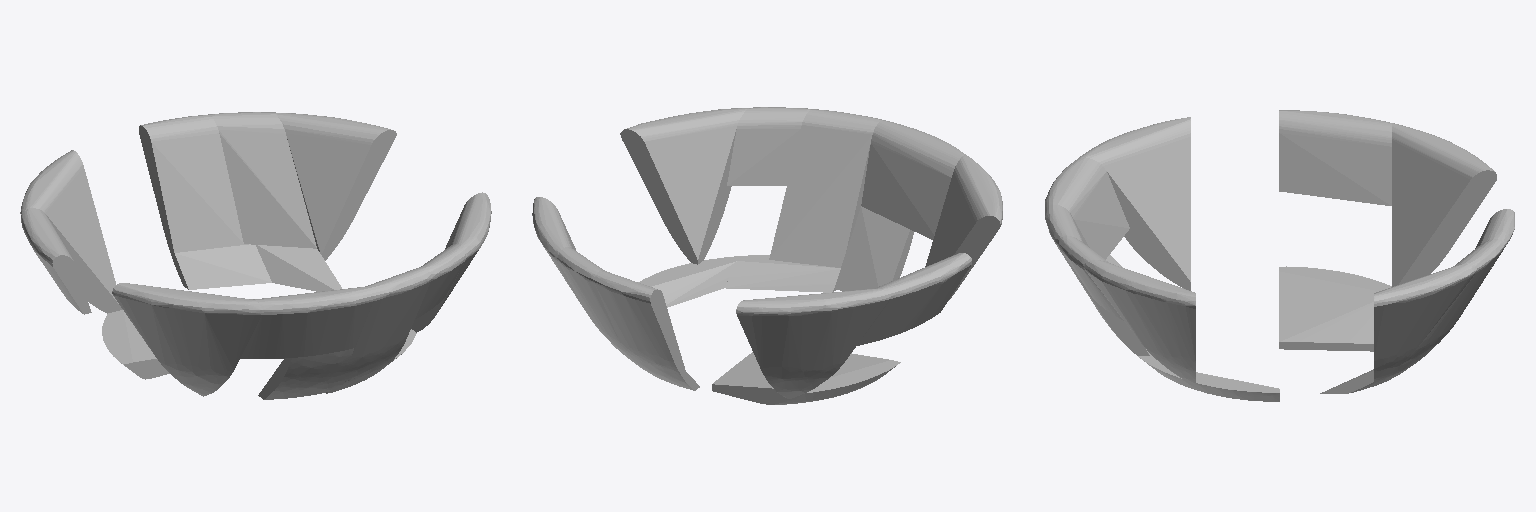
--- What the picture shows (computed from the rendered views, not written in the file) ---
The picture shows the robot from 3 angles, left to right: view 1: azimuth 30°, elevation 25°; view 2: azimuth 150°, elevation 25°; view 3: azimuth 270°, elevation 25°; orthographic projection.
Robot: root — 28 links, 27 joints (27 fixed); root link link_coacd_convex_piece_0; default pose: every joint at zero.
Links seen in each view (by area): view 1: link_coacd_convex_piece_18, link_coacd_convex_piece_5, link_coacd_convex_piece_0, link_coacd_convex_piece_13, link_coacd_convex_piece_9, link_coacd_convex_piece_4, link_coacd_convex_piece_20, link_coacd_convex_piece_3, link_coacd_convex_piece_26, link_coacd_convex_piece_7, link_coacd_convex_piece_24, link_coacd_convex_piece_2 (+2 smaller); view 2: link_coacd_convex_piece_20, link_coacd_convex_piece_21, link_coacd_convex_piece_4, link_coacd_convex_piece_9, link_coacd_convex_piece_18, link_coacd_convex_piece_5, link_coacd_convex_piece_23, link_coacd_convex_piece_7, link_coacd_convex_piece_26, link_coacd_convex_piece_2, link_coacd_convex_piece_19, link_coacd_convex_piece_8 (+3 smaller); view 3: link_coacd_convex_piece_4, link_coacd_convex_piece_5, link_coacd_convex_piece_7, link_coacd_convex_piece_2, link_coacd_convex_piece_21, link_coacd_convex_piece_0, link_coacd_convex_piece_9, link_coacd_convex_piece_13, link_coacd_convex_piece_20, link_coacd_convex_piece_8, link_coacd_convex_piece_23, link_coacd_convex_piece_18 (+1 smaller).
Link boxes in pixels (x1,y1,x2,y2): link_coacd_convex_piece_18: (139,115,243,252); link_coacd_convex_piece_5: (112,283,261,396); link_coacd_convex_piece_0: (272,112,396,260); link_coacd_convex_piece_13: (208,112,316,248); link_coacd_convex_piece_9: (240,286,373,358); link_coacd_convex_piece_4: (20,150,122,313); link_coacd_convex_piece_20: (338,266,431,382); link_coacd_convex_piece_3: (169,244,271,289); link_coacd_convex_piece_26: (258,348,353,399); link_coacd_convex_piece_7: (21,208,91,314); link_coacd_convex_piece_24: (256,245,341,291); link_coacd_convex_piece_2: (102,310,169,379); link_coacd_convex_piece_20: (769,109,881,267); link_coacd_convex_piece_21: (620,108,748,264); link_coacd_convex_piece_4: (736,288,890,398); link_coacd_convex_piece_9: (861,120,965,239); link_coacd_convex_piece_18: (594,270,685,374); link_coacd_convex_piece_5: (925,155,1002,300); link_coacd_convex_piece_23: (727,107,810,185); link_coacd_convex_piece_7: (857,253,971,345); link_coacd_convex_piece_26: (835,206,913,291); link_coacd_convex_piece_2: (712,352,900,404); link_coacd_convex_piece_19: (725,255,840,292); link_coacd_convex_piece_8: (638,256,743,307); link_coacd_convex_piece_4: (1392,123,1496,286); link_coacd_convex_piece_5: (1079,117,1190,290); link_coacd_convex_piece_7: (1279,110,1391,205); link_coacd_convex_piece_2: (1279,266,1391,351); link_coacd_convex_piece_21: (1084,260,1195,382); link_coacd_convex_piece_0: (1374,263,1476,381); link_coacd_convex_piece_9: (1045,158,1129,259); link_coacd_convex_piece_13: (1398,239,1505,366); link_coacd_convex_piece_20: (1045,205,1149,355); link_coacd_convex_piece_8: (1154,367,1279,401); link_coacd_convex_piece_23: (1057,236,1123,320); link_coacd_convex_piece_18: (1447,209,1514,333).
Bounding box of the posed robot: 0.1569 × 0.1621 × 0.0563 m (x, y, z).
16 mesh visuals loaded from 28 distinct referenced files (16 OBJ); not drawn: 12 (reference not matched to a file when rendering).

robot.urdf — root:
<robot name="root">
  <link name="link_coacd_convex_piece_0">
    <inertial>
      <origin xyz="0 0 0" rpy="0 0 0"/>
      <inertia ixx="3.15E-09" ixy="-3.30E-09" ixz="-9.87E-10" iyy="4.49E-09" iyz="-8.17E-10" izz="6.94E-09"/>
    </inertial>
    <visual>
      <origin xyz="0 0 0" rpy="0 0 0"/>
      <geometry>
        <mesh filename="coacd_convex_piece_0.obj" scale="1.0000E+00 1.0000E+00 1.0000E+00"/>
      </geometry>
      <material name="">
        <color rgba="7.50E-01 7.50E-01 7.50E-01 1"/>
      </material>
    </visual>
    <collision>
      <origin xyz="0 0 0" rpy="0 0 0"/>
      <geometry>
        <mesh filename="coacd_convex_piece_0.obj" scale="1.0000E+00 1.0000E+00 1.0000E+00"/>
      </geometry>
    </collision>
  </link>
  <link name="link_coacd_convex_piece_1">
    <inertial>
      <origin xyz="0 0 0" rpy="0 0 0"/>
      <inertia ixx="3.44E-09" ixy="-7.98E-12" ixz="9.38E-11" iyy="3.09E-09" iyz="-1.48E-09" izz="2.94E-09"/>
    </inertial>
    <visual>
      <origin xyz="0 0 0" rpy="0 0 0"/>
      <geometry>
        <mesh filename="coacd_convex_piece_1.obj" scale="1.0000E+00 1.0000E+00 1.0000E+00"/>
      </geometry>
      <material name="">
        <color rgba="7.50E-01 7.50E-01 7.50E-01 1"/>
      </material>
    </visual>
    <collision>
      <origin xyz="0 0 0" rpy="0 0 0"/>
      <geometry>
        <mesh filename="coacd_convex_piece_1.obj" scale="1.0000E+00 1.0000E+00 1.0000E+00"/>
      </geometry>
    </collision>
  </link>
  <joint name="link_coacd_convex_piece_1_joint" type="fixed">
    <origin xyz="0 0 0" rpy="0 0 0"/>
    <parent link="link_coacd_convex_piece_0"/>
    <child link="link_coacd_convex_piece_1"/>
  </joint>
  <link name="link_coacd_convex_piece_2">
    <inertial>
      <origin xyz="0 0 0" rpy="0 0 0"/>
      <inertia ixx="1.79E-09" ixy="7.29E-10" ixz="-1.05E-09" iyy="2.41E-09" iyz="7.58E-10" izz="2.12E-09"/>
    </inertial>
    <visual>
      <origin xyz="0 0 0" rpy="0 0 0"/>
      <geometry>
        <mesh filename="coacd_convex_piece_2.obj" scale="1.0000E+00 1.0000E+00 1.0000E+00"/>
      </geometry>
      <material name="">
        <color rgba="7.50E-01 7.50E-01 7.50E-01 1"/>
      </material>
    </visual>
    <collision>
      <origin xyz="0 0 0" rpy="0 0 0"/>
      <geometry>
        <mesh filename="coacd_convex_piece_2.obj" scale="1.0000E+00 1.0000E+00 1.0000E+00"/>
      </geometry>
    </collision>
  </link>
  <joint name="link_coacd_convex_piece_2_joint" type="fixed">
    <origin xyz="0 0 0" rpy="0 0 0"/>
    <parent link="link_coacd_convex_piece_1"/>
    <child link="link_coacd_convex_piece_2"/>
  </joint>
  <link name="link_coacd_convex_piece_3">
    <inertial>
      <origin xyz="0 0 0" rpy="0 0 0"/>
      <inertia ixx="7.98E-10" ixy="-1.95E-10" ixz="7.27E-11" iyy="1.68E-10" iyz="2.52E-10" izz="7.76E-10"/>
    </inertial>
    <visual>
      <origin xyz="0 0 0" rpy="0 0 0"/>
      <geometry>
        <mesh filename="coacd_convex_piece_3.obj" scale="1.0000E+00 1.0000E+00 1.0000E+00"/>
      </geometry>
      <material name="">
        <color rgba="7.50E-01 7.50E-01 7.50E-01 1"/>
      </material>
    </visual>
    <collision>
      <origin xyz="0 0 0" rpy="0 0 0"/>
      <geometry>
        <mesh filename="coacd_convex_piece_3.obj" scale="1.0000E+00 1.0000E+00 1.0000E+00"/>
      </geometry>
    </collision>
  </link>
  <joint name="link_coacd_convex_piece_3_joint" type="fixed">
    <origin xyz="0 0 0" rpy="0 0 0"/>
    <parent link="link_coacd_convex_piece_2"/>
    <child link="link_coacd_convex_piece_3"/>
  </joint>
  <link name="link_coacd_convex_piece_4">
    <inertial>
      <origin xyz="0 0 0" rpy="0 0 0"/>
      <inertia ixx="6.40E-09" ixy="4.96E-09" ixz="1.10E-09" iyy="5.10E-09" iyz="-1.23E-09" izz="1.05E-08"/>
    </inertial>
    <visual>
      <origin xyz="0 0 0" rpy="0 0 0"/>
      <geometry>
        <mesh filename="coacd_convex_piece_4.obj" scale="1.0000E+00 1.0000E+00 1.0000E+00"/>
      </geometry>
      <material name="">
        <color rgba="7.50E-01 7.50E-01 7.50E-01 1"/>
      </material>
    </visual>
    <collision>
      <origin xyz="0 0 0" rpy="0 0 0"/>
      <geometry>
        <mesh filename="coacd_convex_piece_4.obj" scale="1.0000E+00 1.0000E+00 1.0000E+00"/>
      </geometry>
    </collision>
  </link>
  <joint name="link_coacd_convex_piece_4_joint" type="fixed">
    <origin xyz="0 0 0" rpy="0 0 0"/>
    <parent link="link_coacd_convex_piece_3"/>
    <child link="link_coacd_convex_piece_4"/>
  </joint>
  <link name="link_coacd_convex_piece_5">
    <inertial>
      <origin xyz="0 0 0" rpy="0 0 0"/>
      <inertia ixx="5.16E-09" ixy="-5.00E-09" ixz="1.35E-09" iyy="6.50E-09" iyz="1.21E-09" izz="1.06E-08"/>
    </inertial>
    <visual>
      <origin xyz="0 0 0" rpy="0 0 0"/>
      <geometry>
        <mesh filename="coacd_convex_piece_5.obj" scale="1.0000E+00 1.0000E+00 1.0000E+00"/>
      </geometry>
      <material name="">
        <color rgba="7.50E-01 7.50E-01 7.50E-01 1"/>
      </material>
    </visual>
    <collision>
      <origin xyz="0 0 0" rpy="0 0 0"/>
      <geometry>
        <mesh filename="coacd_convex_piece_5.obj" scale="1.0000E+00 1.0000E+00 1.0000E+00"/>
      </geometry>
    </collision>
  </link>
  <joint name="link_coacd_convex_piece_5_joint" type="fixed">
    <origin xyz="0 0 0" rpy="0 0 0"/>
    <parent link="link_coacd_convex_piece_4"/>
    <child link="link_coacd_convex_piece_5"/>
  </joint>
  <link name="link_coacd_convex_piece_6">
    <inertial>
      <origin xyz="0 0 0" rpy="0 0 0"/>
      <inertia ixx="5.58E-09" ixy="1.16E-09" ixz="2.36E-10" iyy="6.19E-10" iyz="-1.09E-09" izz="5.65E-09"/>
    </inertial>
    <visual>
      <origin xyz="0 0 0" rpy="0 0 0"/>
      <geometry>
        <mesh filename="coacd_convex_piece_6.obj" scale="1.0000E+00 1.0000E+00 1.0000E+00"/>
      </geometry>
      <material name="">
        <color rgba="7.50E-01 7.50E-01 7.50E-01 1"/>
      </material>
    </visual>
    <collision>
      <origin xyz="0 0 0" rpy="0 0 0"/>
      <geometry>
        <mesh filename="coacd_convex_piece_6.obj" scale="1.0000E+00 1.0000E+00 1.0000E+00"/>
      </geometry>
    </collision>
  </link>
  <joint name="link_coacd_convex_piece_6_joint" type="fixed">
    <origin xyz="0 0 0" rpy="0 0 0"/>
    <parent link="link_coacd_convex_piece_5"/>
    <child link="link_coacd_convex_piece_6"/>
  </joint>
  <link name="link_coacd_convex_piece_7">
    <inertial>
      <origin xyz="0 0 0" rpy="0 0 0"/>
      <inertia ixx="1.09E-09" ixy="1.81E-09" ixz="1.53E-09" iyy="6.97E-09" iyz="-4.26E-10" izz="7.24E-09"/>
    </inertial>
    <visual>
      <origin xyz="0 0 0" rpy="0 0 0"/>
      <geometry>
        <mesh filename="coacd_convex_piece_7.obj" scale="1.0000E+00 1.0000E+00 1.0000E+00"/>
      </geometry>
      <material name="">
        <color rgba="7.50E-01 7.50E-01 7.50E-01 1"/>
      </material>
    </visual>
    <collision>
      <origin xyz="0 0 0" rpy="0 0 0"/>
      <geometry>
        <mesh filename="coacd_convex_piece_7.obj" scale="1.0000E+00 1.0000E+00 1.0000E+00"/>
      </geometry>
    </collision>
  </link>
  <joint name="link_coacd_convex_piece_7_joint" type="fixed">
    <origin xyz="0 0 0" rpy="0 0 0"/>
    <parent link="link_coacd_convex_piece_6"/>
    <child link="link_coacd_convex_piece_7"/>
  </joint>
  <link name="link_coacd_convex_piece_8">
    <inertial>
      <origin xyz="0 0 0" rpy="0 0 0"/>
      <inertia ixx="2.62E-10" ixy="2.39E-10" ixz="2.68E-10" iyy="7.11E-10" iyz="-1.15E-10" izz="7.22E-10"/>
    </inertial>
    <visual>
      <origin xyz="0 0 0" rpy="0 0 0"/>
      <geometry>
        <mesh filename="coacd_convex_piece_8.obj" scale="1.0000E+00 1.0000E+00 1.0000E+00"/>
      </geometry>
      <material name="">
        <color rgba="7.50E-01 7.50E-01 7.50E-01 1"/>
      </material>
    </visual>
    <collision>
      <origin xyz="0 0 0" rpy="0 0 0"/>
      <geometry>
        <mesh filename="coacd_convex_piece_8.obj" scale="1.0000E+00 1.0000E+00 1.0000E+00"/>
      </geometry>
    </collision>
  </link>
  <joint name="link_coacd_convex_piece_8_joint" type="fixed">
    <origin xyz="0 0 0" rpy="0 0 0"/>
    <parent link="link_coacd_convex_piece_7"/>
    <child link="link_coacd_convex_piece_8"/>
  </joint>
  <link name="link_coacd_convex_piece_9">
    <inertial>
      <origin xyz="0 0 0" rpy="0 0 0"/>
      <inertia ixx="8.01E-09" ixy="-2.14E-09" ixz="5.04E-10" iyy="1.31E-09" iyz="1.77E-09" izz="8.35E-09"/>
    </inertial>
    <visual>
      <origin xyz="0 0 0" rpy="0 0 0"/>
      <geometry>
        <mesh filename="coacd_convex_piece_9.obj" scale="1.0000E+00 1.0000E+00 1.0000E+00"/>
      </geometry>
      <material name="">
        <color rgba="7.50E-01 7.50E-01 7.50E-01 1"/>
      </material>
    </visual>
    <collision>
      <origin xyz="0 0 0" rpy="0 0 0"/>
      <geometry>
        <mesh filename="coacd_convex_piece_9.obj" scale="1.0000E+00 1.0000E+00 1.0000E+00"/>
      </geometry>
    </collision>
  </link>
  <joint name="link_coacd_convex_piece_9_joint" type="fixed">
    <origin xyz="0 0 0" rpy="0 0 0"/>
    <parent link="link_coacd_convex_piece_8"/>
    <child link="link_coacd_convex_piece_9"/>
  </joint>
  <link name="link_coacd_convex_piece_10">
    <inertial>
      <origin xyz="0 0 0" rpy="0 0 0"/>
      <inertia ixx="4.65E-10" ixy="-8.69E-10" ixz="4.83E-10" iyy="3.47E-09" iyz="1.29E-10" izz="3.63E-09"/>
    </inertial>
    <visual>
      <origin xyz="0 0 0" rpy="0 0 0"/>
      <geometry>
        <mesh filename="coacd_convex_piece_10.obj" scale="1.0000E+00 1.0000E+00 1.0000E+00"/>
      </geometry>
      <material name="">
        <color rgba="7.50E-01 7.50E-01 7.50E-01 1"/>
      </material>
    </visual>
    <collision>
      <origin xyz="0 0 0" rpy="0 0 0"/>
      <geometry>
        <mesh filename="coacd_convex_piece_10.obj" scale="1.0000E+00 1.0000E+00 1.0000E+00"/>
      </geometry>
    </collision>
  </link>
  <joint name="link_coacd_convex_piece_10_joint" type="fixed">
    <origin xyz="0 0 0" rpy="0 0 0"/>
    <parent link="link_coacd_convex_piece_9"/>
    <child link="link_coacd_convex_piece_10"/>
  </joint>
  <link name="link_coacd_convex_piece_11">
    <inertial>
      <origin xyz="0 0 0" rpy="0 0 0"/>
      <inertia ixx="6.27E-10" ixy="-1.05E-09" ixz="-1.15E-09" iyy="4.97E-09" iyz="-2.61E-10" izz="4.97E-09"/>
    </inertial>
    <visual>
      <origin xyz="0 0 0" rpy="0 0 0"/>
      <geometry>
        <mesh filename="coacd_convex_piece_11.obj" scale="1.0000E+00 1.0000E+00 1.0000E+00"/>
      </geometry>
      <material name="">
        <color rgba="7.50E-01 7.50E-01 7.50E-01 1"/>
      </material>
    </visual>
    <collision>
      <origin xyz="0 0 0" rpy="0 0 0"/>
      <geometry>
        <mesh filename="coacd_convex_piece_11.obj" scale="1.0000E+00 1.0000E+00 1.0000E+00"/>
      </geometry>
    </collision>
  </link>
  <joint name="link_coacd_convex_piece_11_joint" type="fixed">
    <origin xyz="0 0 0" rpy="0 0 0"/>
    <parent link="link_coacd_convex_piece_10"/>
    <child link="link_coacd_convex_piece_11"/>
  </joint>
  <link name="link_coacd_convex_piece_12">
    <inertial>
      <origin xyz="0 0 0" rpy="0 0 0"/>
      <inertia ixx="1.76E-09" ixy="-5.43E-10" ixz="7.13E-10" iyy="1.67E-09" iyz="7.65E-10" izz="1.62E-09"/>
    </inertial>
    <visual>
      <origin xyz="0 0 0" rpy="0 0 0"/>
      <geometry>
        <mesh filename="coacd_convex_piece_12.obj" scale="1.0000E+00 1.0000E+00 1.0000E+00"/>
      </geometry>
      <material name="">
        <color rgba="7.50E-01 7.50E-01 7.50E-01 1"/>
      </material>
    </visual>
    <collision>
      <origin xyz="0 0 0" rpy="0 0 0"/>
      <geometry>
        <mesh filename="coacd_convex_piece_12.obj" scale="1.0000E+00 1.0000E+00 1.0000E+00"/>
      </geometry>
    </collision>
  </link>
  <joint name="link_coacd_convex_piece_12_joint" type="fixed">
    <origin xyz="0 0 0" rpy="0 0 0"/>
    <parent link="link_coacd_convex_piece_11"/>
    <child link="link_coacd_convex_piece_12"/>
  </joint>
  <link name="link_coacd_convex_piece_13">
    <inertial>
      <origin xyz="0 0 0" rpy="0 0 0"/>
      <inertia ixx="4.43E-09" ixy="-2.45E-09" ixz="-3.26E-10" iyy="1.73E-09" iyz="-6.38E-10" izz="5.73E-09"/>
    </inertial>
    <visual>
      <origin xyz="0 0 0" rpy="0 0 0"/>
      <geometry>
        <mesh filename="coacd_convex_piece_13.obj" scale="1.0000E+00 1.0000E+00 1.0000E+00"/>
      </geometry>
      <material name="">
        <color rgba="7.50E-01 7.50E-01 7.50E-01 1"/>
      </material>
    </visual>
    <collision>
      <origin xyz="0 0 0" rpy="0 0 0"/>
      <geometry>
        <mesh filename="coacd_convex_piece_13.obj" scale="1.0000E+00 1.0000E+00 1.0000E+00"/>
      </geometry>
    </collision>
  </link>
  <joint name="link_coacd_convex_piece_13_joint" type="fixed">
    <origin xyz="0 0 0" rpy="0 0 0"/>
    <parent link="link_coacd_convex_piece_12"/>
    <child link="link_coacd_convex_piece_13"/>
  </joint>
  <link name="link_coacd_convex_piece_14">
    <inertial>
      <origin xyz="0 0 0" rpy="0 0 0"/>
      <inertia ixx="7.03E-10" ixy="-1.34E-09" ixz="1.17E-09" iyy="6.26E-09" iyz="2.59E-10" izz="6.35E-09"/>
    </inertial>
    <visual>
      <origin xyz="0 0 0" rpy="0 0 0"/>
      <geometry>
        <mesh filename="coacd_convex_piece_14.obj" scale="1.0000E+00 1.0000E+00 1.0000E+00"/>
      </geometry>
      <material name="">
        <color rgba="7.50E-01 7.50E-01 7.50E-01 1"/>
      </material>
    </visual>
    <collision>
      <origin xyz="0 0 0" rpy="0 0 0"/>
      <geometry>
        <mesh filename="coacd_convex_piece_14.obj" scale="1.0000E+00 1.0000E+00 1.0000E+00"/>
      </geometry>
    </collision>
  </link>
  <joint name="link_coacd_convex_piece_14_joint" type="fixed">
    <origin xyz="0 0 0" rpy="0 0 0"/>
    <parent link="link_coacd_convex_piece_13"/>
    <child link="link_coacd_convex_piece_14"/>
  </joint>
  <link name="link_coacd_convex_piece_15">
    <inertial>
      <origin xyz="0 0 0" rpy="0 0 0"/>
      <inertia ixx="8.41E-10" ixy="1.35E-09" ixz="-6.21E-10" iyy="3.93E-09" iyz="2.55E-10" izz="4.43E-09"/>
    </inertial>
    <visual>
      <origin xyz="0 0 0" rpy="0 0 0"/>
      <geometry>
        <mesh filename="coacd_convex_piece_15.obj" scale="1.0000E+00 1.0000E+00 1.0000E+00"/>
      </geometry>
      <material name="">
        <color rgba="7.50E-01 7.50E-01 7.50E-01 1"/>
      </material>
    </visual>
    <collision>
      <origin xyz="0 0 0" rpy="0 0 0"/>
      <geometry>
        <mesh filename="coacd_convex_piece_15.obj" scale="1.0000E+00 1.0000E+00 1.0000E+00"/>
      </geometry>
    </collision>
  </link>
  <joint name="link_coacd_convex_piece_15_joint" type="fixed">
    <origin xyz="0 0 0" rpy="0 0 0"/>
    <parent link="link_coacd_convex_piece_14"/>
    <child link="link_coacd_convex_piece_15"/>
  </joint>
  <link name="link_coacd_convex_piece_16">
    <inertial>
      <origin xyz="0 0 0" rpy="0 0 0"/>
      <inertia ixx="4.97E-10" ixy="-6.25E-10" ixz="-6.82E-10" iyy="2.52E-09" iyz="-1.94E-10" izz="2.50E-09"/>
    </inertial>
    <visual>
      <origin xyz="0 0 0" rpy="0 0 0"/>
      <geometry>
        <mesh filename="coacd_convex_piece_16.obj" scale="1.0000E+00 1.0000E+00 1.0000E+00"/>
      </geometry>
      <material name="">
        <color rgba="7.50E-01 7.50E-01 7.50E-01 1"/>
      </material>
    </visual>
    <collision>
      <origin xyz="0 0 0" rpy="0 0 0"/>
      <geometry>
        <mesh filename="coacd_convex_piece_16.obj" scale="1.0000E+00 1.0000E+00 1.0000E+00"/>
      </geometry>
    </collision>
  </link>
  <joint name="link_coacd_convex_piece_16_joint" type="fixed">
    <origin xyz="0 0 0" rpy="0 0 0"/>
    <parent link="link_coacd_convex_piece_15"/>
    <child link="link_coacd_convex_piece_16"/>
  </joint>
  <link name="link_coacd_convex_piece_17">
    <inertial>
      <origin xyz="0 0 0" rpy="0 0 0"/>
      <inertia ixx="3.19E-09" ixy="7.77E-10" ixz="-2.18E-10" iyy="5.83E-10" iyz="7.78E-10" izz="3.19E-09"/>
    </inertial>
    <visual>
      <origin xyz="0 0 0" rpy="0 0 0"/>
      <geometry>
        <mesh filename="coacd_convex_piece_17.obj" scale="1.0000E+00 1.0000E+00 1.0000E+00"/>
      </geometry>
      <material name="">
        <color rgba="7.50E-01 7.50E-01 7.50E-01 1"/>
      </material>
    </visual>
    <collision>
      <origin xyz="0 0 0" rpy="0 0 0"/>
      <geometry>
        <mesh filename="coacd_convex_piece_17.obj" scale="1.0000E+00 1.0000E+00 1.0000E+00"/>
      </geometry>
    </collision>
  </link>
  <joint name="link_coacd_convex_piece_17_joint" type="fixed">
    <origin xyz="0 0 0" rpy="0 0 0"/>
    <parent link="link_coacd_convex_piece_16"/>
    <child link="link_coacd_convex_piece_17"/>
  </joint>
  <link name="link_coacd_convex_piece_18">
    <inertial>
      <origin xyz="0 0 0" rpy="0 0 0"/>
      <inertia ixx="5.96E-09" ixy="-1.03E-09" ixz="-1.28E-10" iyy="4.85E-10" iyz="-7.76E-10" izz="5.98E-09"/>
    </inertial>
    <visual>
      <origin xyz="0 0 0" rpy="0 0 0"/>
      <geometry>
        <mesh filename="coacd_convex_piece_18.obj" scale="1.0000E+00 1.0000E+00 1.0000E+00"/>
      </geometry>
      <material name="">
        <color rgba="7.50E-01 7.50E-01 7.50E-01 1"/>
      </material>
    </visual>
    <collision>
      <origin xyz="0 0 0" rpy="0 0 0"/>
      <geometry>
        <mesh filename="coacd_convex_piece_18.obj" scale="1.0000E+00 1.0000E+00 1.0000E+00"/>
      </geometry>
    </collision>
  </link>
  <joint name="link_coacd_convex_piece_18_joint" type="fixed">
    <origin xyz="0 0 0" rpy="0 0 0"/>
    <parent link="link_coacd_convex_piece_17"/>
    <child link="link_coacd_convex_piece_18"/>
  </joint>
  <link name="link_coacd_convex_piece_19">
    <inertial>
      <origin xyz="0 0 0" rpy="0 0 0"/>
      <inertia ixx="6.82E-10" ixy="2.15E-10" ixz="1.06E-10" iyy="2.40E-10" iyz="-2.60E-10" izz="6.72E-10"/>
    </inertial>
    <visual>
      <origin xyz="0 0 0" rpy="0 0 0"/>
      <geometry>
        <mesh filename="coacd_convex_piece_19.obj" scale="1.0000E+00 1.0000E+00 1.0000E+00"/>
      </geometry>
      <material name="">
        <color rgba="7.50E-01 7.50E-01 7.50E-01 1"/>
      </material>
    </visual>
    <collision>
      <origin xyz="0 0 0" rpy="0 0 0"/>
      <geometry>
        <mesh filename="coacd_convex_piece_19.obj" scale="1.0000E+00 1.0000E+00 1.0000E+00"/>
      </geometry>
    </collision>
  </link>
  <joint name="link_coacd_convex_piece_19_joint" type="fixed">
    <origin xyz="0 0 0" rpy="0 0 0"/>
    <parent link="link_coacd_convex_piece_18"/>
    <child link="link_coacd_convex_piece_19"/>
  </joint>
  <link name="link_coacd_convex_piece_20">
    <inertial>
      <origin xyz="0 0 0" rpy="0 0 0"/>
      <inertia ixx="7.64E-09" ixy="1.42E-09" ixz="-1.41E-10" iyy="7.18E-10" iyz="8.64E-10" izz="7.67E-09"/>
    </inertial>
    <visual>
      <origin xyz="0 0 0" rpy="0 0 0"/>
      <geometry>
        <mesh filename="coacd_convex_piece_20.obj" scale="1.0000E+00 1.0000E+00 1.0000E+00"/>
      </geometry>
      <material name="">
        <color rgba="7.50E-01 7.50E-01 7.50E-01 1"/>
      </material>
    </visual>
    <collision>
      <origin xyz="0 0 0" rpy="0 0 0"/>
      <geometry>
        <mesh filename="coacd_convex_piece_20.obj" scale="1.0000E+00 1.0000E+00 1.0000E+00"/>
      </geometry>
    </collision>
  </link>
  <joint name="link_coacd_convex_piece_20_joint" type="fixed">
    <origin xyz="0 0 0" rpy="0 0 0"/>
    <parent link="link_coacd_convex_piece_19"/>
    <child link="link_coacd_convex_piece_20"/>
  </joint>
  <link name="link_coacd_convex_piece_21">
    <inertial>
      <origin xyz="0 0 0" rpy="0 0 0"/>
      <inertia ixx="3.61E-09" ixy="3.89E-09" ixz="-1.24E-09" iyy="5.65E-09" iyz="9.80E-10" izz="8.35E-09"/>
    </inertial>
    <visual>
      <origin xyz="0 0 0" rpy="0 0 0"/>
      <geometry>
        <mesh filename="coacd_convex_piece_21.obj" scale="1.0000E+00 1.0000E+00 1.0000E+00"/>
      </geometry>
      <material name="">
        <color rgba="7.50E-01 7.50E-01 7.50E-01 1"/>
      </material>
    </visual>
    <collision>
      <origin xyz="0 0 0" rpy="0 0 0"/>
      <geometry>
        <mesh filename="coacd_convex_piece_21.obj" scale="1.0000E+00 1.0000E+00 1.0000E+00"/>
      </geometry>
    </collision>
  </link>
  <joint name="link_coacd_convex_piece_21_joint" type="fixed">
    <origin xyz="0 0 0" rpy="0 0 0"/>
    <parent link="link_coacd_convex_piece_20"/>
    <child link="link_coacd_convex_piece_21"/>
  </joint>
  <link name="link_coacd_convex_piece_22">
    <inertial>
      <origin xyz="0 0 0" rpy="0 0 0"/>
      <inertia ixx="9.34E-10" ixy="1.85E-09" ixz="-9.60E-10" iyy="8.66E-09" iyz="1.84E-10" izz="8.84E-09"/>
    </inertial>
    <visual>
      <origin xyz="0 0 0" rpy="0 0 0"/>
      <geometry>
        <mesh filename="coacd_convex_piece_22.obj" scale="1.0000E+00 1.0000E+00 1.0000E+00"/>
      </geometry>
      <material name="">
        <color rgba="7.50E-01 7.50E-01 7.50E-01 1"/>
      </material>
    </visual>
    <collision>
      <origin xyz="0 0 0" rpy="0 0 0"/>
      <geometry>
        <mesh filename="coacd_convex_piece_22.obj" scale="1.0000E+00 1.0000E+00 1.0000E+00"/>
      </geometry>
    </collision>
  </link>
  <joint name="link_coacd_convex_piece_22_joint" type="fixed">
    <origin xyz="0 0 0" rpy="0 0 0"/>
    <parent link="link_coacd_convex_piece_21"/>
    <child link="link_coacd_convex_piece_22"/>
  </joint>
  <link name="link_coacd_convex_piece_23">
    <inertial>
      <origin xyz="0 0 0" rpy="0 0 0"/>
      <inertia ixx="2.75E-09" ixy="1.39E-09" ixz="-3.83E-10" iyy="1.01E-09" iyz="7.02E-10" izz="3.33E-09"/>
    </inertial>
    <visual>
      <origin xyz="0 0 0" rpy="0 0 0"/>
      <geometry>
        <mesh filename="coacd_convex_piece_23.obj" scale="1.0000E+00 1.0000E+00 1.0000E+00"/>
      </geometry>
      <material name="">
        <color rgba="7.50E-01 7.50E-01 7.50E-01 1"/>
      </material>
    </visual>
    <collision>
      <origin xyz="0 0 0" rpy="0 0 0"/>
      <geometry>
        <mesh filename="coacd_convex_piece_23.obj" scale="1.0000E+00 1.0000E+00 1.0000E+00"/>
      </geometry>
    </collision>
  </link>
  <joint name="link_coacd_convex_piece_23_joint" type="fixed">
    <origin xyz="0 0 0" rpy="0 0 0"/>
    <parent link="link_coacd_convex_piece_22"/>
    <child link="link_coacd_convex_piece_23"/>
  </joint>
  <link name="link_coacd_convex_piece_24">
    <inertial>
      <origin xyz="0 0 0" rpy="0 0 0"/>
      <inertia ixx="4.11E-10" ixy="-3.18E-10" ixz="1.65E-10" iyy="4.20E-10" iyz="1.58E-10" izz="6.62E-10"/>
    </inertial>
    <visual>
      <origin xyz="0 0 0" rpy="0 0 0"/>
      <geometry>
        <mesh filename="coacd_convex_piece_24.obj" scale="1.0000E+00 1.0000E+00 1.0000E+00"/>
      </geometry>
      <material name="">
        <color rgba="7.50E-01 7.50E-01 7.50E-01 1"/>
      </material>
    </visual>
    <collision>
      <origin xyz="0 0 0" rpy="0 0 0"/>
      <geometry>
        <mesh filename="coacd_convex_piece_24.obj" scale="1.0000E+00 1.0000E+00 1.0000E+00"/>
      </geometry>
    </collision>
  </link>
  <joint name="link_coacd_convex_piece_24_joint" type="fixed">
    <origin xyz="0 0 0" rpy="0 0 0"/>
    <parent link="link_coacd_convex_piece_23"/>
    <child link="link_coacd_convex_piece_24"/>
  </joint>
  <link name="link_coacd_convex_piece_25">
    <inertial>
      <origin xyz="0 0 0" rpy="0 0 0"/>
      <inertia ixx="1.29E-09" ixy="9.03E-10" ixz="1.41E-10" iyy="7.49E-10" iyz="-1.72E-10" izz="1.95E-09"/>
    </inertial>
    <visual>
      <origin xyz="0 0 0" rpy="0 0 0"/>
      <geometry>
        <mesh filename="coacd_convex_piece_25.obj" scale="1.0000E+00 1.0000E+00 1.0000E+00"/>
      </geometry>
      <material name="">
        <color rgba="7.50E-01 7.50E-01 7.50E-01 1"/>
      </material>
    </visual>
    <collision>
      <origin xyz="0 0 0" rpy="0 0 0"/>
      <geometry>
        <mesh filename="coacd_convex_piece_25.obj" scale="1.0000E+00 1.0000E+00 1.0000E+00"/>
      </geometry>
    </collision>
  </link>
  <joint name="link_coacd_convex_piece_25_joint" type="fixed">
    <origin xyz="0 0 0" rpy="0 0 0"/>
    <parent link="link_coacd_convex_piece_24"/>
    <child link="link_coacd_convex_piece_25"/>
  </joint>
  <link name="link_coacd_convex_piece_26">
    <inertial>
      <origin xyz="0 0 0" rpy="0 0 0"/>
      <inertia ixx="1.81E-09" ixy="-3.46E-10" ixz="-7.17E-11" iyy="1.88E-10" iyz="-3.28E-10" izz="1.81E-09"/>
    </inertial>
    <visual>
      <origin xyz="0 0 0" rpy="0 0 0"/>
      <geometry>
        <mesh filename="coacd_convex_piece_26.obj" scale="1.0000E+00 1.0000E+00 1.0000E+00"/>
      </geometry>
      <material name="">
        <color rgba="7.50E-01 7.50E-01 7.50E-01 1"/>
      </material>
    </visual>
    <collision>
      <origin xyz="0 0 0" rpy="0 0 0"/>
      <geometry>
        <mesh filename="coacd_convex_piece_26.obj" scale="1.0000E+00 1.0000E+00 1.0000E+00"/>
      </geometry>
    </collision>
  </link>
  <joint name="link_coacd_convex_piece_26_joint" type="fixed">
    <origin xyz="0 0 0" rpy="0 0 0"/>
    <parent link="link_coacd_convex_piece_25"/>
    <child link="link_coacd_convex_piece_26"/>
  </joint>
  <link name="link_coacd_convex_piece_27">
    <inertial>
      <origin xyz="0 0 0" rpy="0 0 0"/>
      <inertia ixx="1.19E-09" ixy="-7.14E-10" ixz="-1.80E-10" iyy="5.78E-10" iyz="-2.49E-10" izz="1.59E-09"/>
    </inertial>
    <visual>
      <origin xyz="0 0 0" rpy="0 0 0"/>
      <geometry>
        <mesh filename="coacd_convex_piece_27.obj" scale="1.0000E+00 1.0000E+00 1.0000E+00"/>
      </geometry>
      <material name="">
        <color rgba="7.50E-01 7.50E-01 7.50E-01 1"/>
      </material>
    </visual>
    <collision>
      <origin xyz="0 0 0" rpy="0 0 0"/>
      <geometry>
        <mesh filename="coacd_convex_piece_27.obj" scale="1.0000E+00 1.0000E+00 1.0000E+00"/>
      </geometry>
    </collision>
  </link>
  <joint name="link_coacd_convex_piece_27_joint" type="fixed">
    <origin xyz="0 0 0" rpy="0 0 0"/>
    <parent link="link_coacd_convex_piece_26"/>
    <child link="link_coacd_convex_piece_27"/>
  </joint>
</robot>
